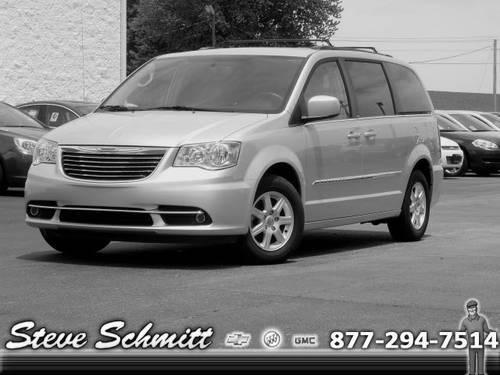car: (25, 35, 442, 259)
